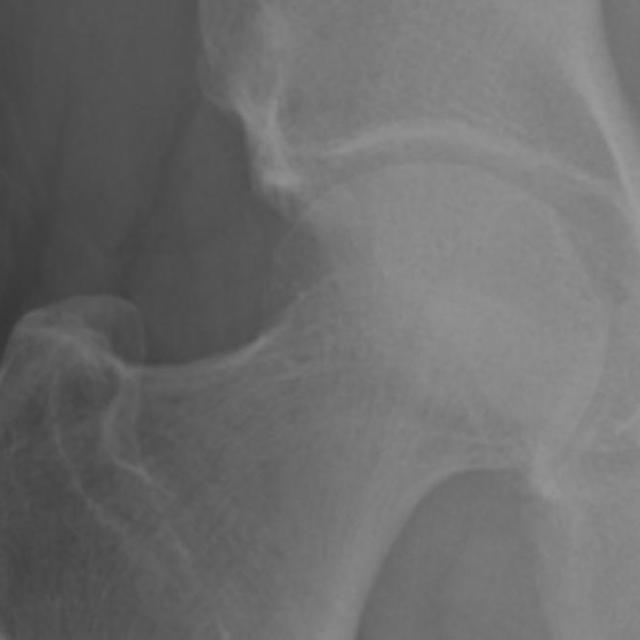Fitted_femural_head: (347, 158, 432, 347)
